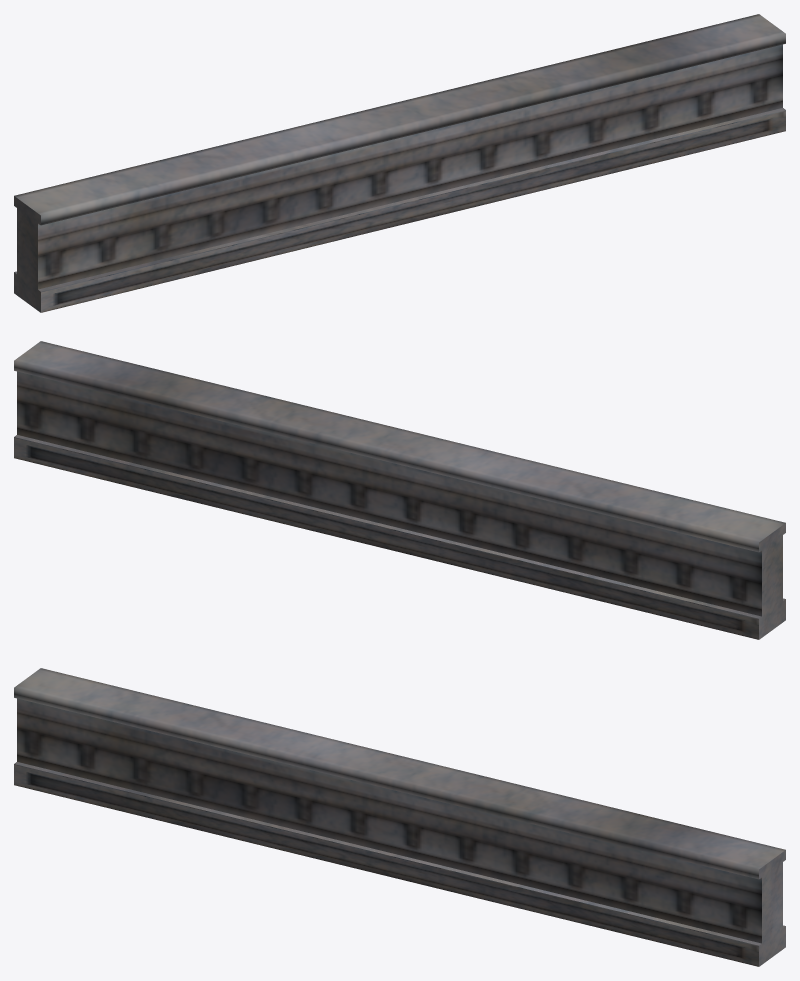
The model's file is railing_01.glb.
3 views of the same model, one above another, from view 1: azimuth 30°, elevation 25°; view 2: azimuth 150°, elevation 25°; view 3: azimuth 330°, elevation 25° (orthographic).
Parts seen in each view (by area): view 1: railing_01; view 2: railing_01; view 3: railing_01.
Part boxes in pixels (left/top/right/bottom): railing_01: left=14, top=14, right=785, bottom=312; railing_01: left=14, top=341, right=785, bottom=639; railing_01: left=14, top=668, right=785, bottom=966.
Bounding box in the file's own units: 8 × 1 × 0.5.
1 material, 1 textured.
